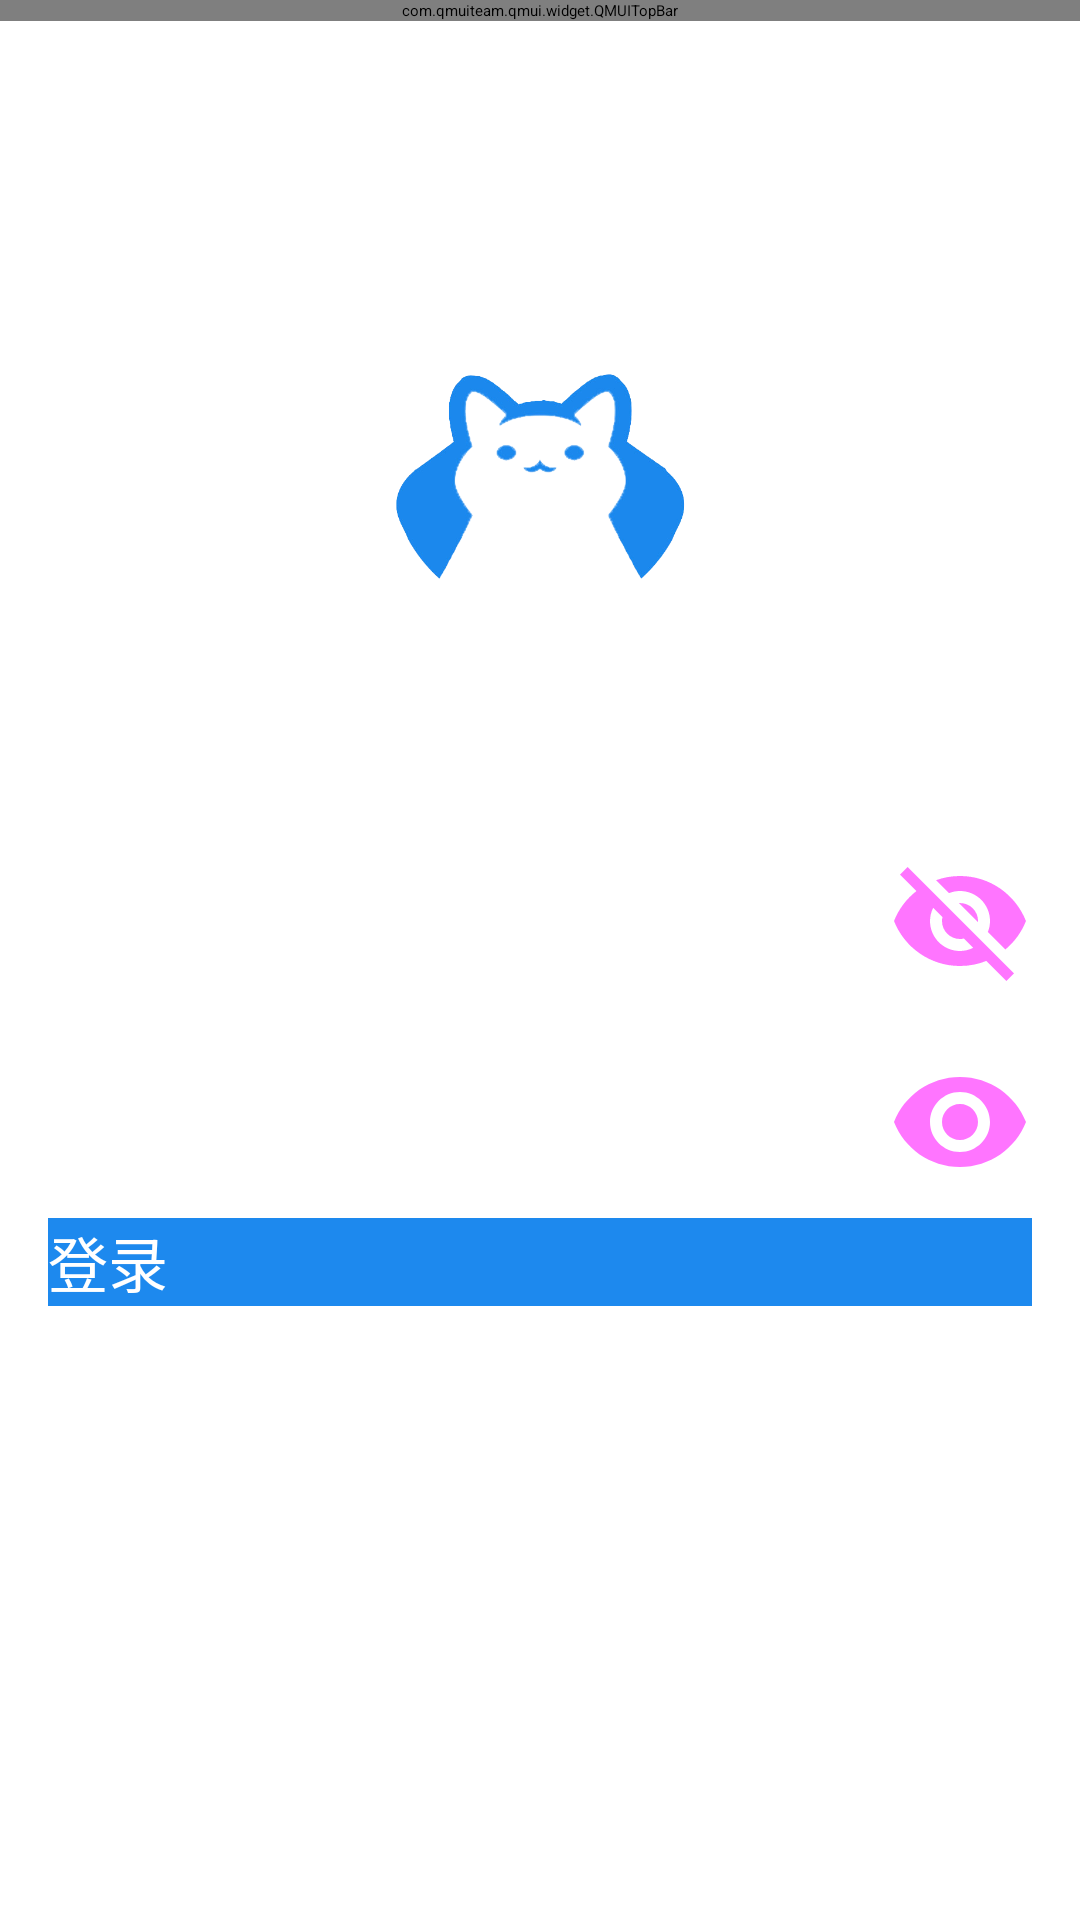

Screen size 1080px×1920px. Icon name, then its box in pixels as [left=x1, top=y1, right=x2, bottom=y2]:
catmiao: [left=396, top=374, right=684, bottom=579]
